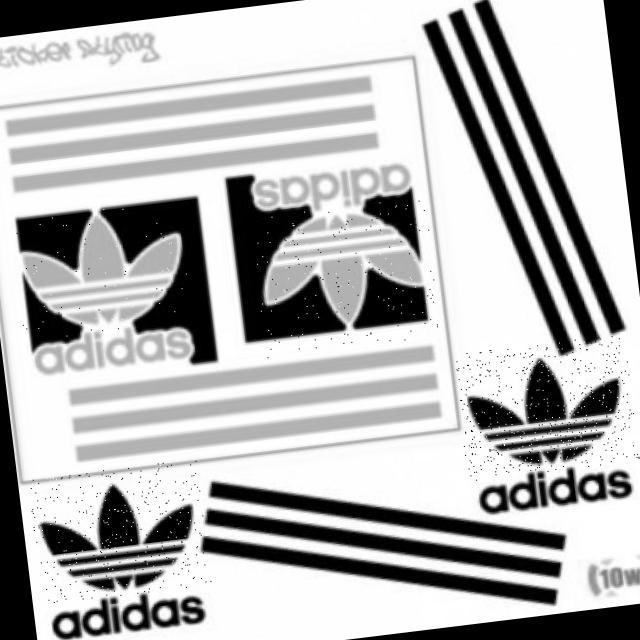Adidas: (247, 196, 442, 358), (453, 333, 640, 481), (8, 197, 196, 344), (28, 458, 212, 606)
